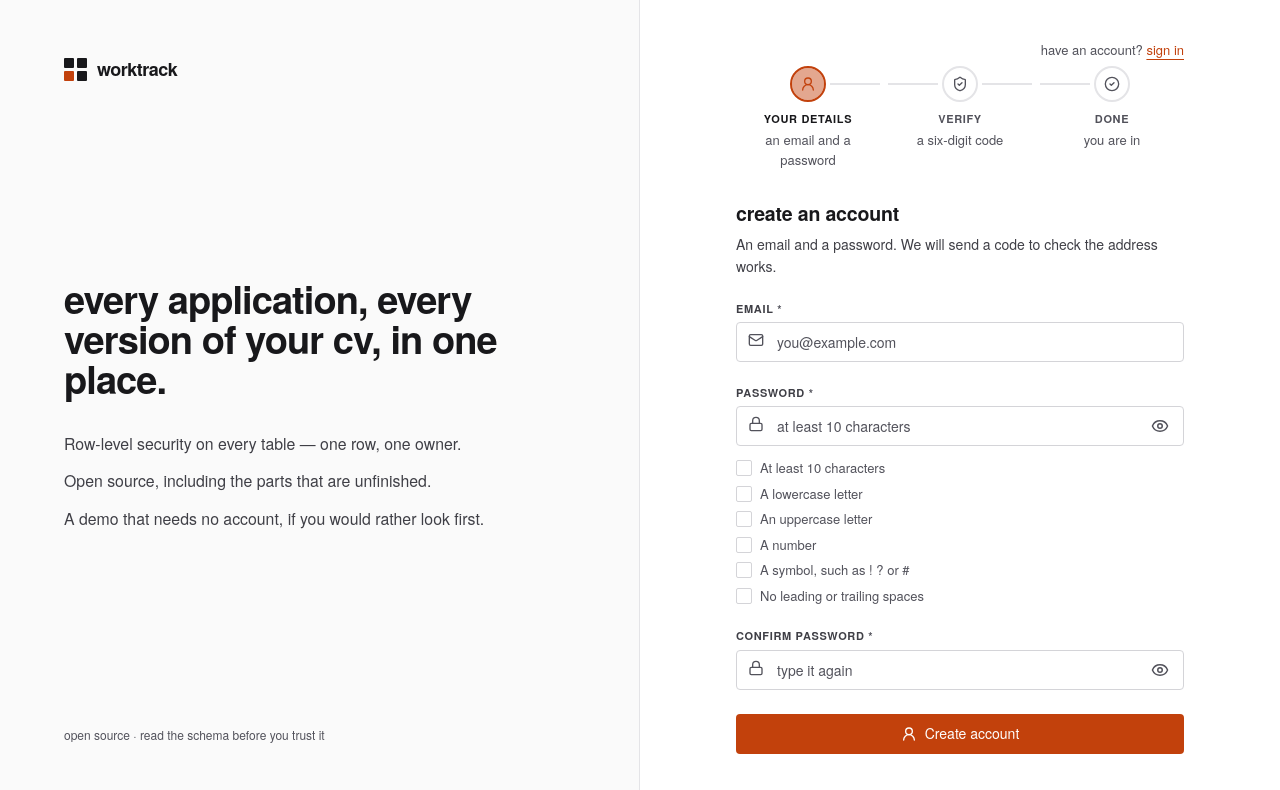
signing up with an address that already has an account › says so, instead of asking for a code that will never arrive
Type "gabe@example.com" into the field labelled "Email *" at (960, 342), box [736,322,1184,362]
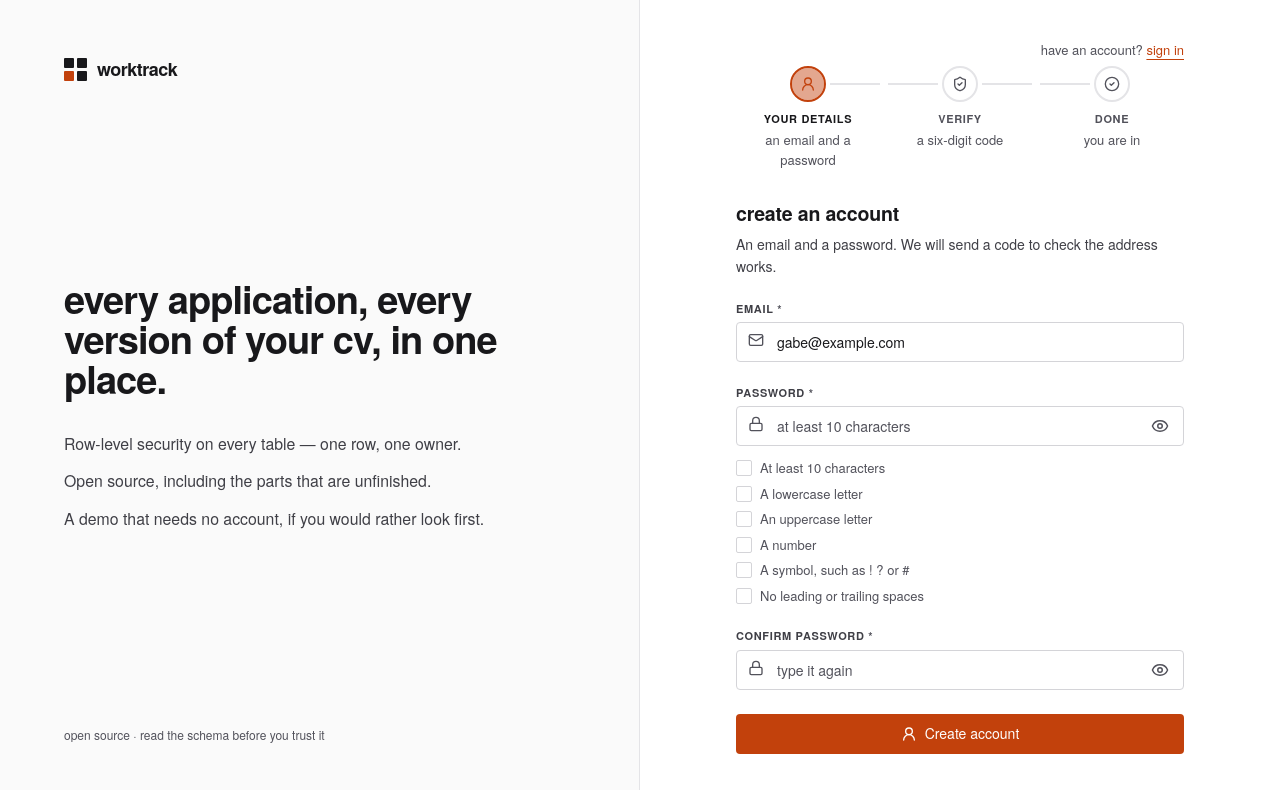
Type "Str0ng!Passw0rd" into the password field labelled "Password *" at (960, 426), box [736,406,1184,446]
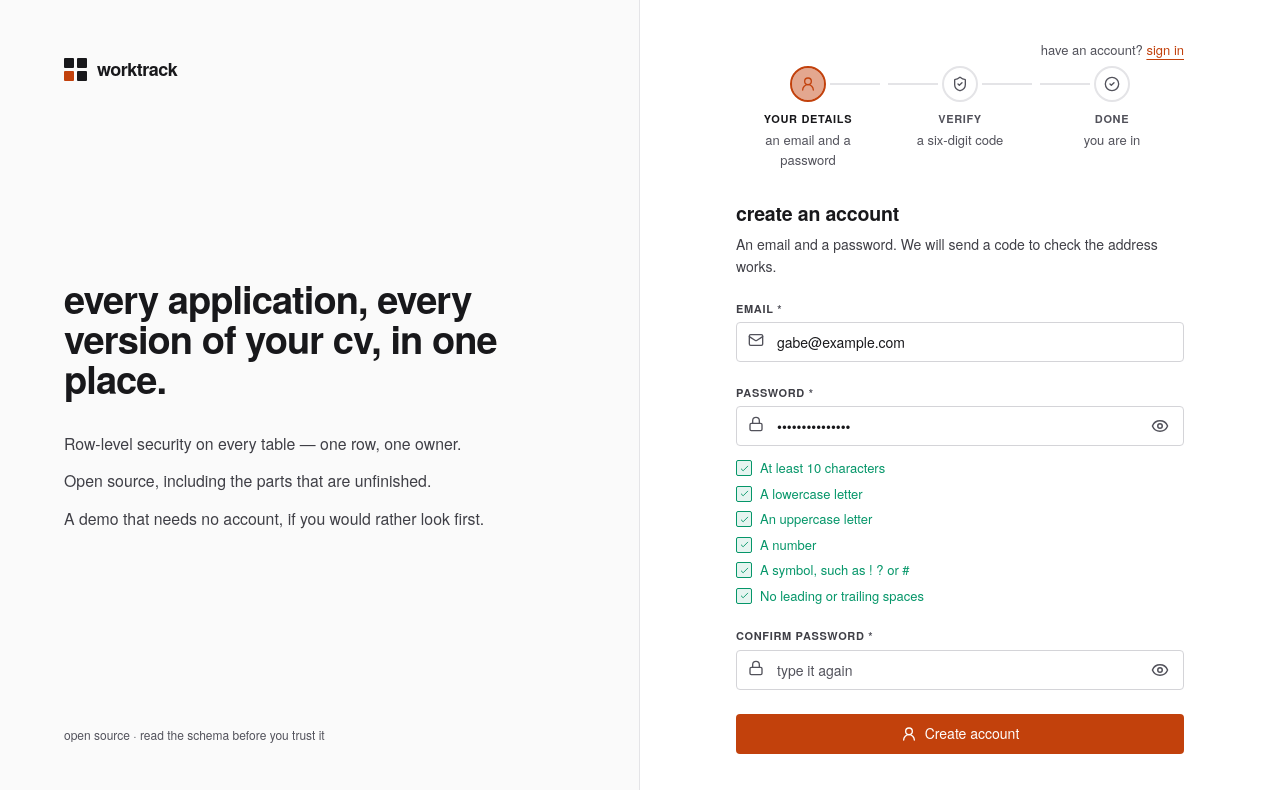
Type "Str0ng!Passw0rd" into the password field labelled "Confirm password *" at (960, 670), box [736,650,1184,690]
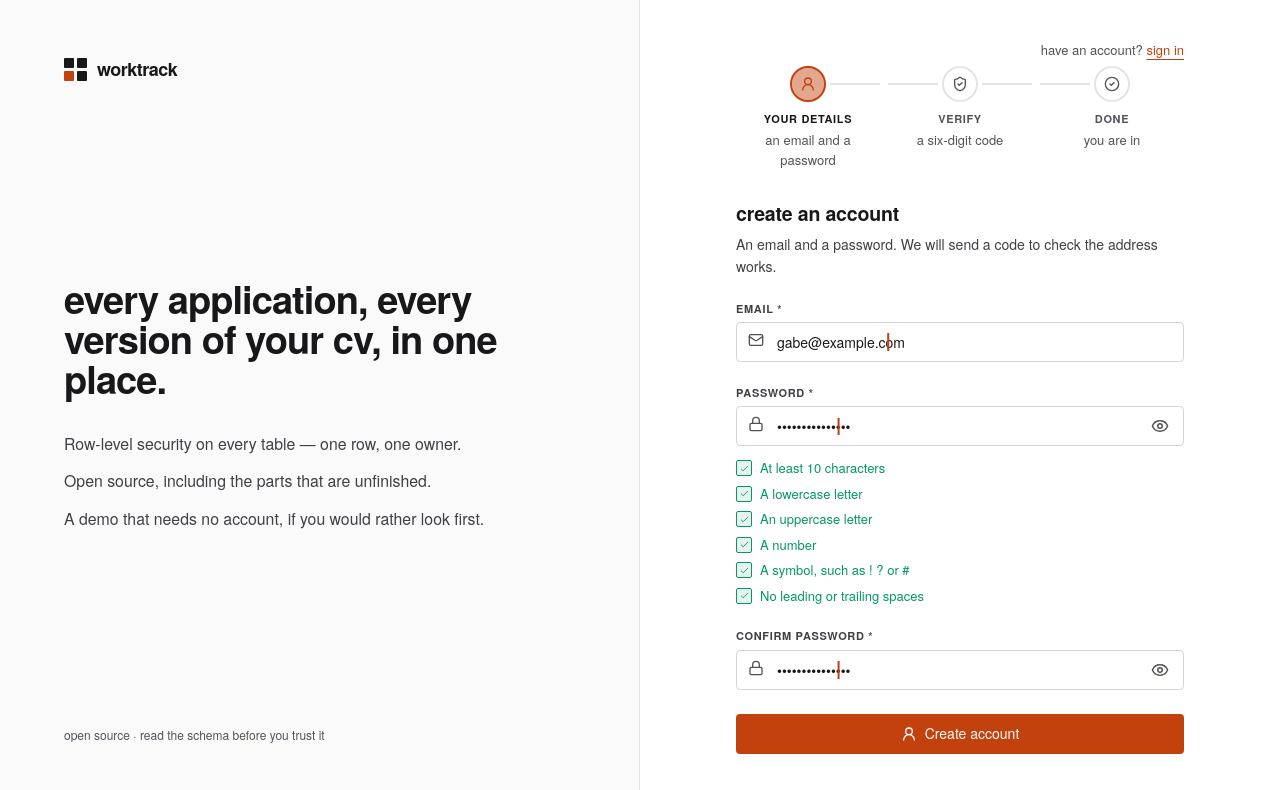
Click the button "Create account" at (960, 734), box [736,714,1184,754]
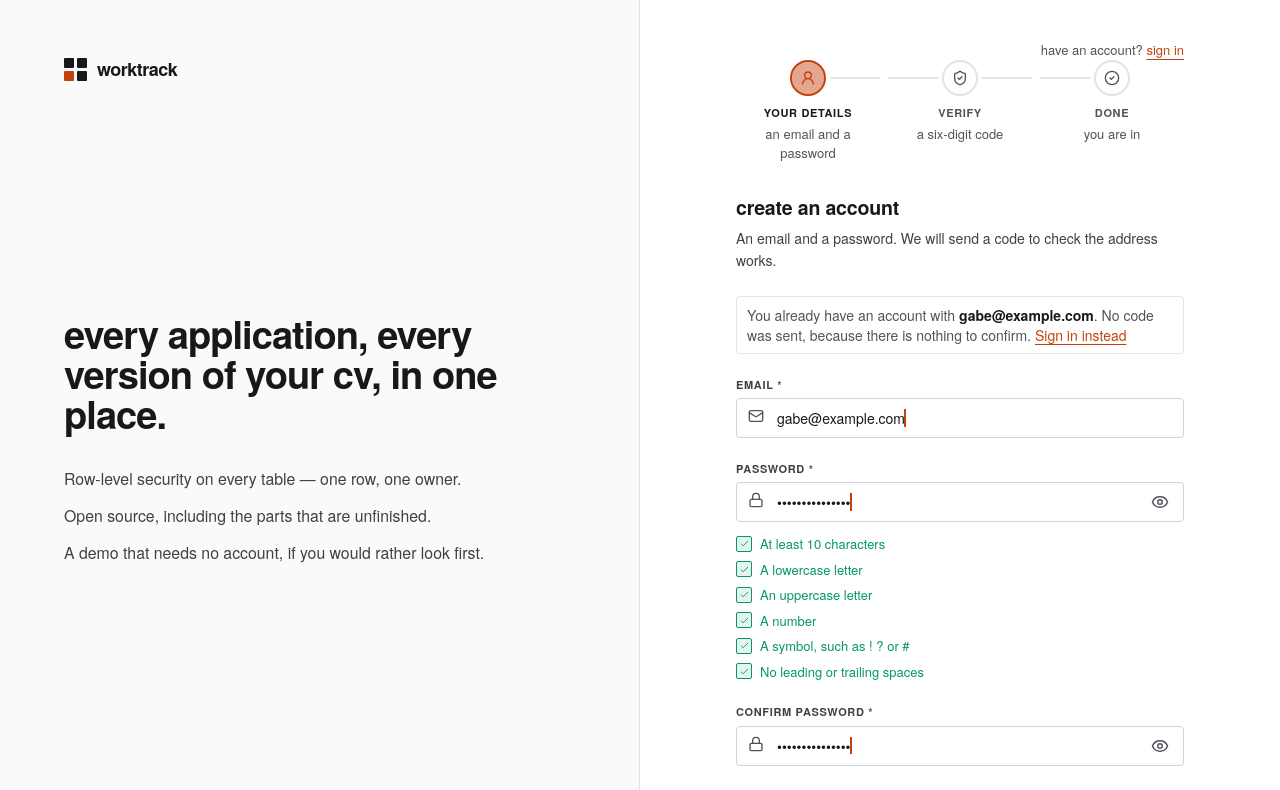
Check: the message shows "already have an account", box [747,305,955,325]
Check: the text "gabe@example.com" is shown, box [959,305,1094,325]
